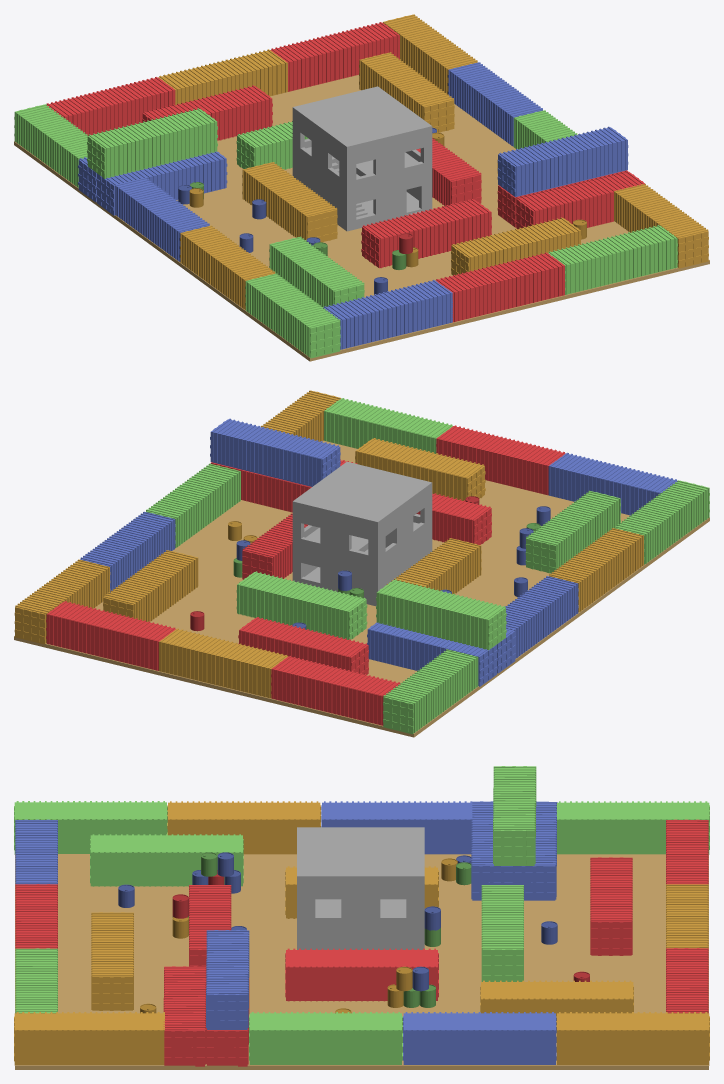
The model's file is PavlovPK_ContainerYardMap.fbx.
The picture shows the model from 3 angles, top to bottom: view 1: azimuth 30°, elevation 25°; view 2: azimuth 150°, elevation 25°; view 3: azimuth 270°, elevation 25°; orthographic projection. The views are drawn at different scales.
Visible parts, largest first — view 1: Cube, Cube.001, Cube.029, Cube.028, Cube.006, Cube.011, Cube.005, Cube.004, Cube.010, Cube.016, Cube.008, Cube.014 (+18 smaller); view 2: Cube, Cube.001, Cube.028, Cube.029, Cube.007, Cube.016, Cube.014, Cube.017, Cube.013, Cube.005, Cube.026, Cube.006 (+17 smaller); view 3: Cube, Cube.001, Cube.018, Cube.015, Cube.019, Cube.012, Cube.026, Cube.013, Cube.009, Cube.022, Cube.023, Cube.010 (+18 smaller).
Boxes of the visible parts, box(x1,y1,x2,y2) form: Cube: box(14, 75, 709, 361); Cube.001: box(292, 86, 432, 231); Cube.029: box(497, 126, 628, 197); Cube.028: box(87, 108, 217, 178); Cube.006: box(323, 279, 452, 349); Cube.011: box(548, 225, 677, 294); Cube.005: box(435, 252, 565, 322); Cube.004: box(361, 199, 491, 268); Cube.010: box(245, 273, 340, 358); Cube.016: box(270, 22, 399, 91); Cube.008: box(242, 162, 337, 242); Cube.014: box(46, 77, 175, 135); Cube: box(14, 440, 709, 737); Cube.001: box(292, 461, 432, 606); Cube.028: box(376, 579, 506, 650); Cube.029: box(210, 418, 340, 486); Cube.007: box(236, 571, 367, 639); Cube.016: box(46, 601, 175, 670); Cube.014: box(271, 656, 400, 725); Cube.017: box(159, 628, 287, 698); Cube.013: box(383, 649, 478, 734); Cube.005: box(436, 425, 565, 495); Cube.026: box(525, 490, 620, 573); Cube.006: box(548, 452, 677, 515); Cube: box(15, 854, 708, 1069); Cube.001: box(297, 827, 424, 949); Cube.018: box(403, 1012, 556, 1064); Cube.015: box(556, 1012, 709, 1065); Cube.019: box(249, 1012, 402, 1064); Cube.012: box(14, 1012, 164, 1065); Cube.026: box(90, 834, 243, 886); Cube.013: box(556, 801, 709, 854); Cube.009: box(285, 948, 438, 1001); Cube.022: box(167, 801, 320, 854); Cube.023: box(321, 801, 474, 854); Cube.010: box(14, 801, 167, 854).
Bounding box in the file's own units: 5019 × 1053 × 6418.
